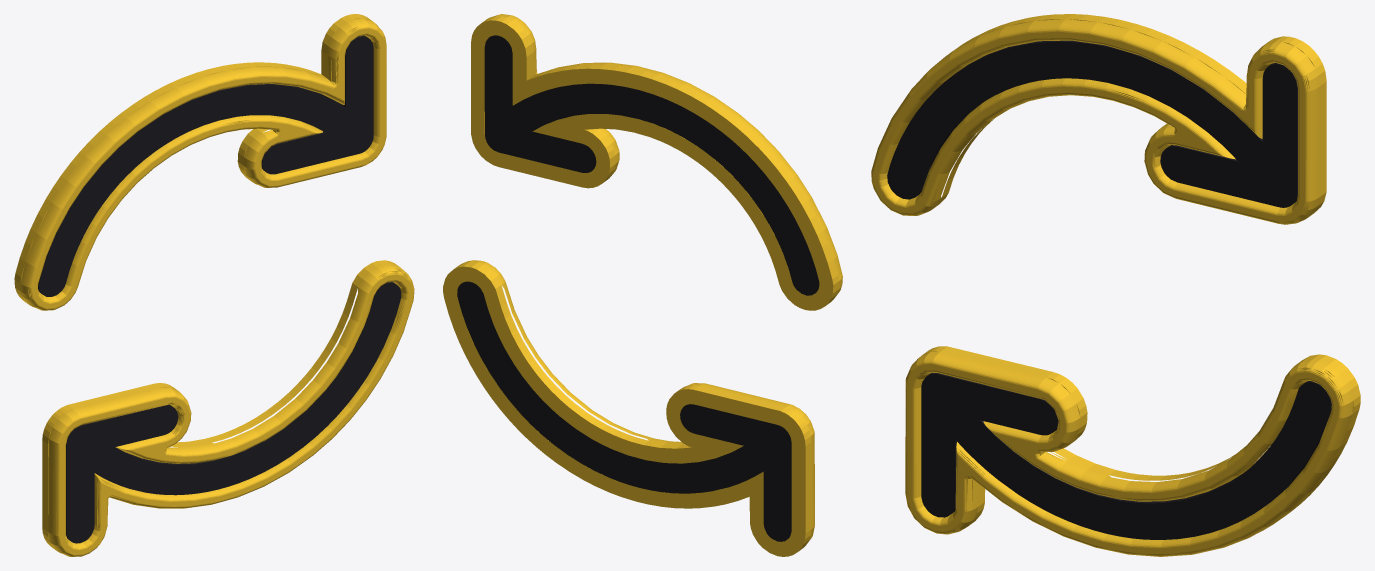
Rendered from cycles_t3.glb.
The picture shows the model from 3 angles, left to right: view 1: azimuth 30°, elevation 25°; view 2: azimuth 150°, elevation 25°; view 3: azimuth 330°, elevation 25°; orthographic projection. The views are drawn at different scales.
Parts seen in each view (by area): view 1: mark, mark_channel; view 2: mark, mark_channel; view 3: mark, mark_channel.
Boxes of the visible parts, <box> form: mark: <box>14,14,414,556</box>; mark_channel: <box>38,35,401,543</box>; mark: <box>443,14,842,556</box>; mark_channel: <box>457,35,819,541</box>; mark: <box>871,14,1360,556</box>; mark_channel: <box>887,40,1331,539</box>.
Size of the model in its own units: 0.4198 by 0.4799 by 0.024.
